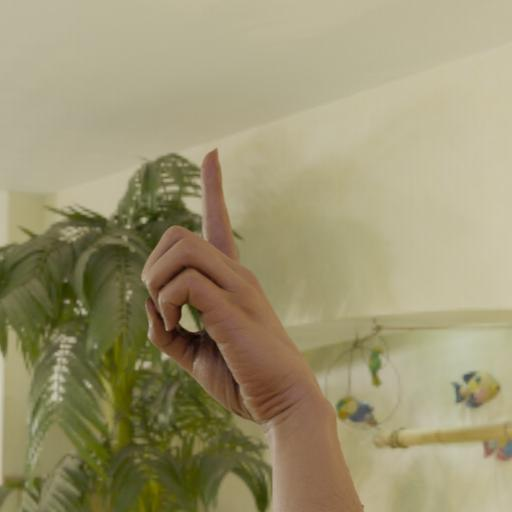D: (138, 135, 346, 439)
